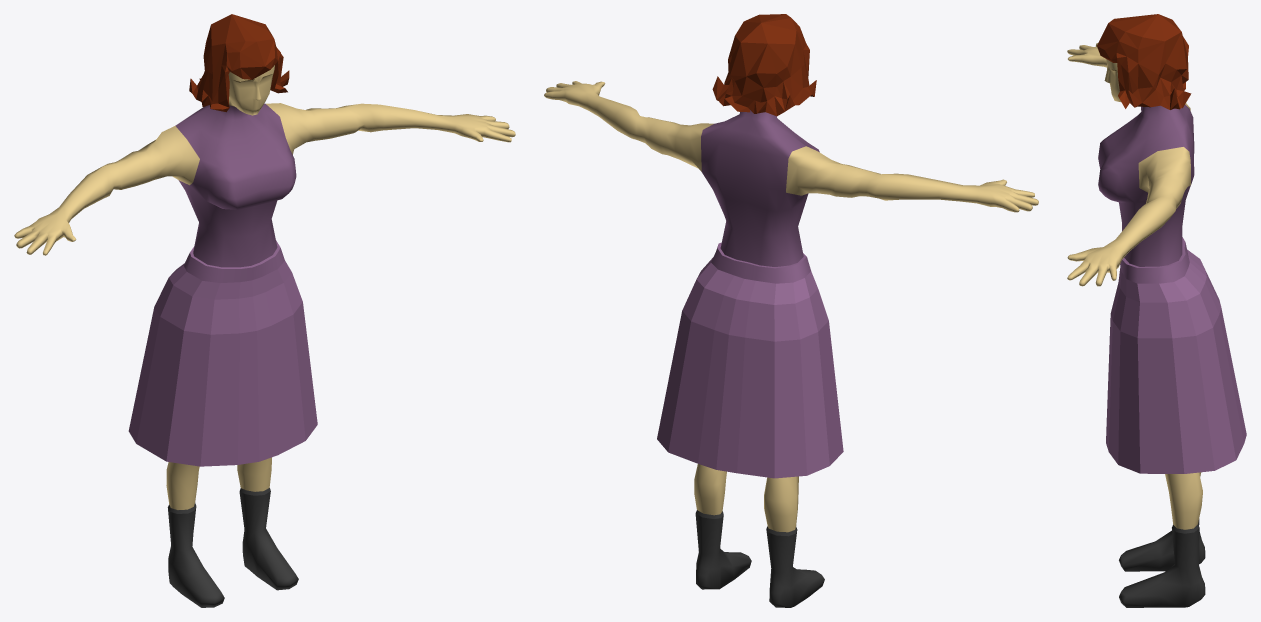
File: Shezel.fbx
3 views of the same model, side by side, from view 1: azimuth 30°, elevation 25°; view 2: azimuth 150°, elevation 25°; view 3: azimuth 270°, elevation 25° (orthographic).
Visible parts, largest first — view 1: Shezel; view 2: Shezel; view 3: Shezel.
Boxes of the visible parts, <box> form: Shezel: <box>14,14,515,607</box>; Shezel: <box>544,14,1038,607</box>; Shezel: <box>1067,14,1246,607</box>.
Bounding box in the file's own units: 165 × 183 × 52.27.
